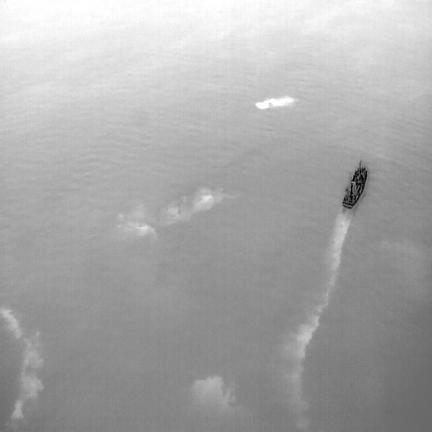flukeprints: (162, 188, 228, 224), (117, 206, 156, 236), (255, 96, 296, 109)
